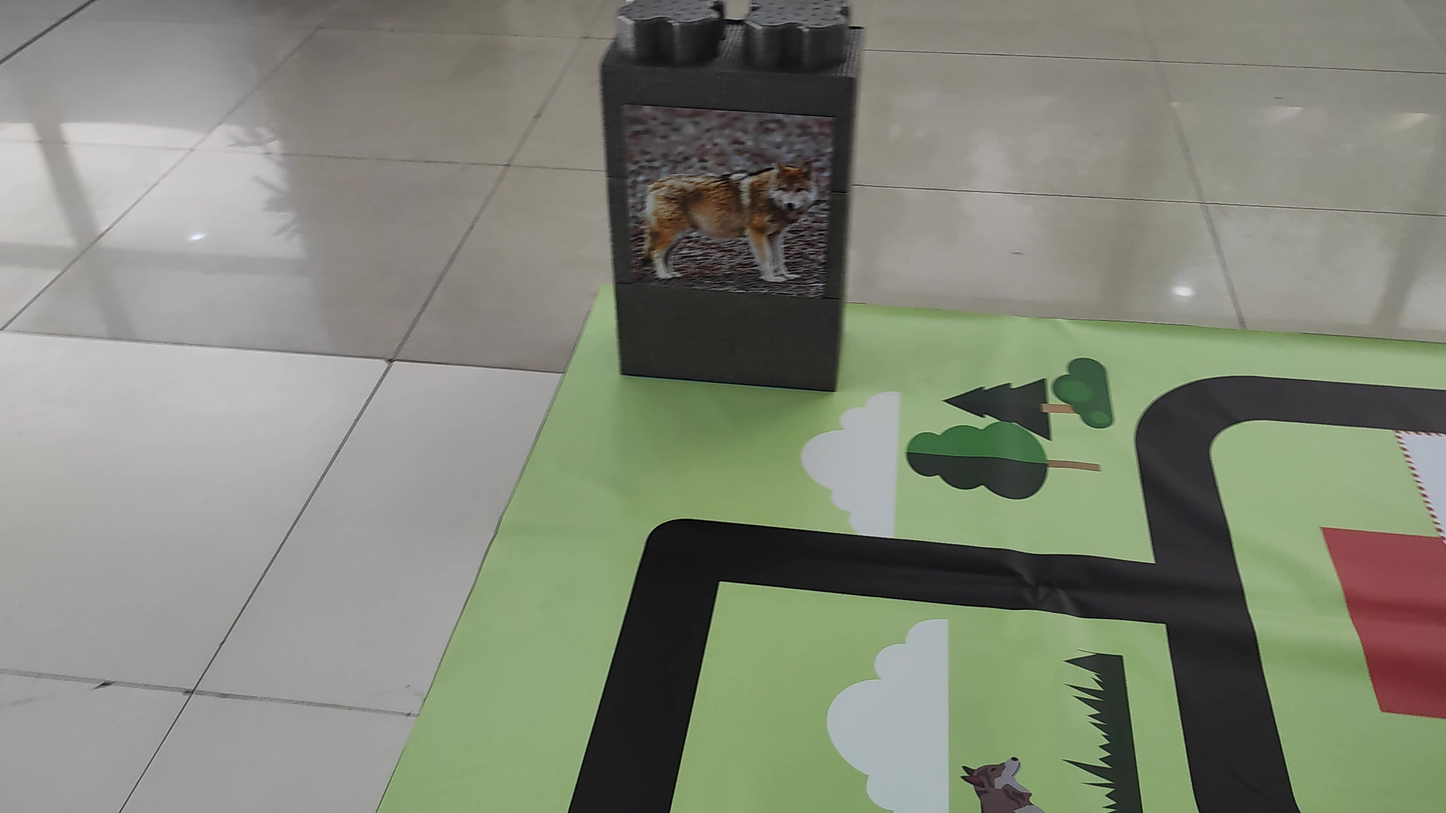wolf: (623, 96, 829, 289)
